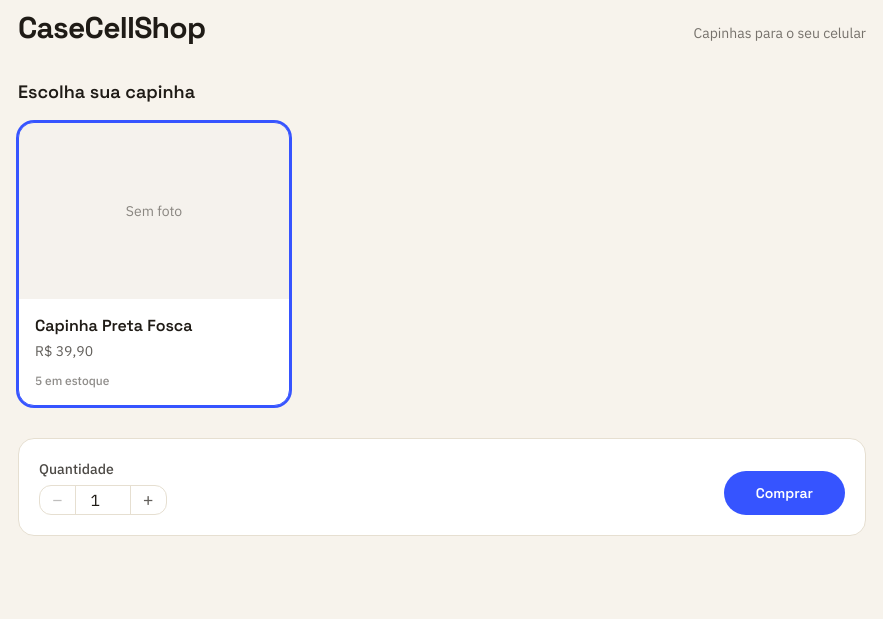
App - checkout flow › shows a friendly message when the product is out of stock
Expected: the text "Capinha Preta Fosca" is shown, x1=35 y1=315 x2=192 y2=336
Click the button "Comprar". click: {"x": 784, "y": 493}
box: x1=724 y1=471 x2=845 y2=515
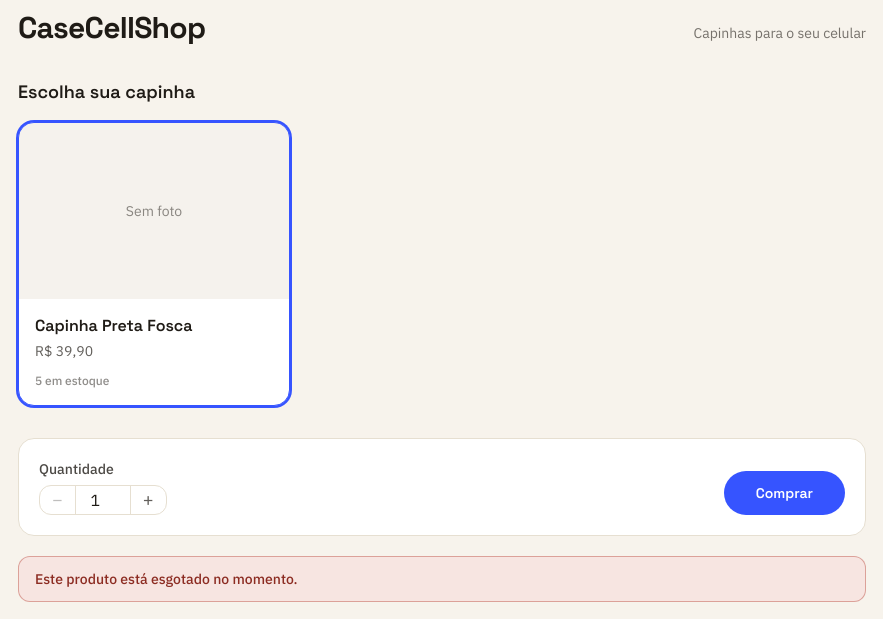
Result: the message shows "esgotado" at x1=35 y1=570 x2=298 y2=588
